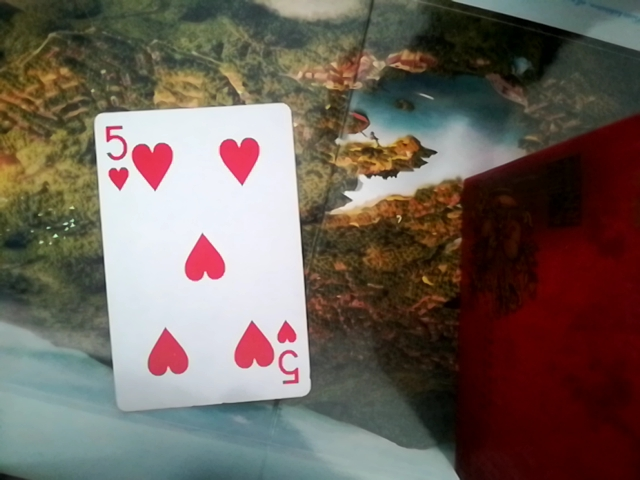hx 5: (84, 112, 309, 412)
